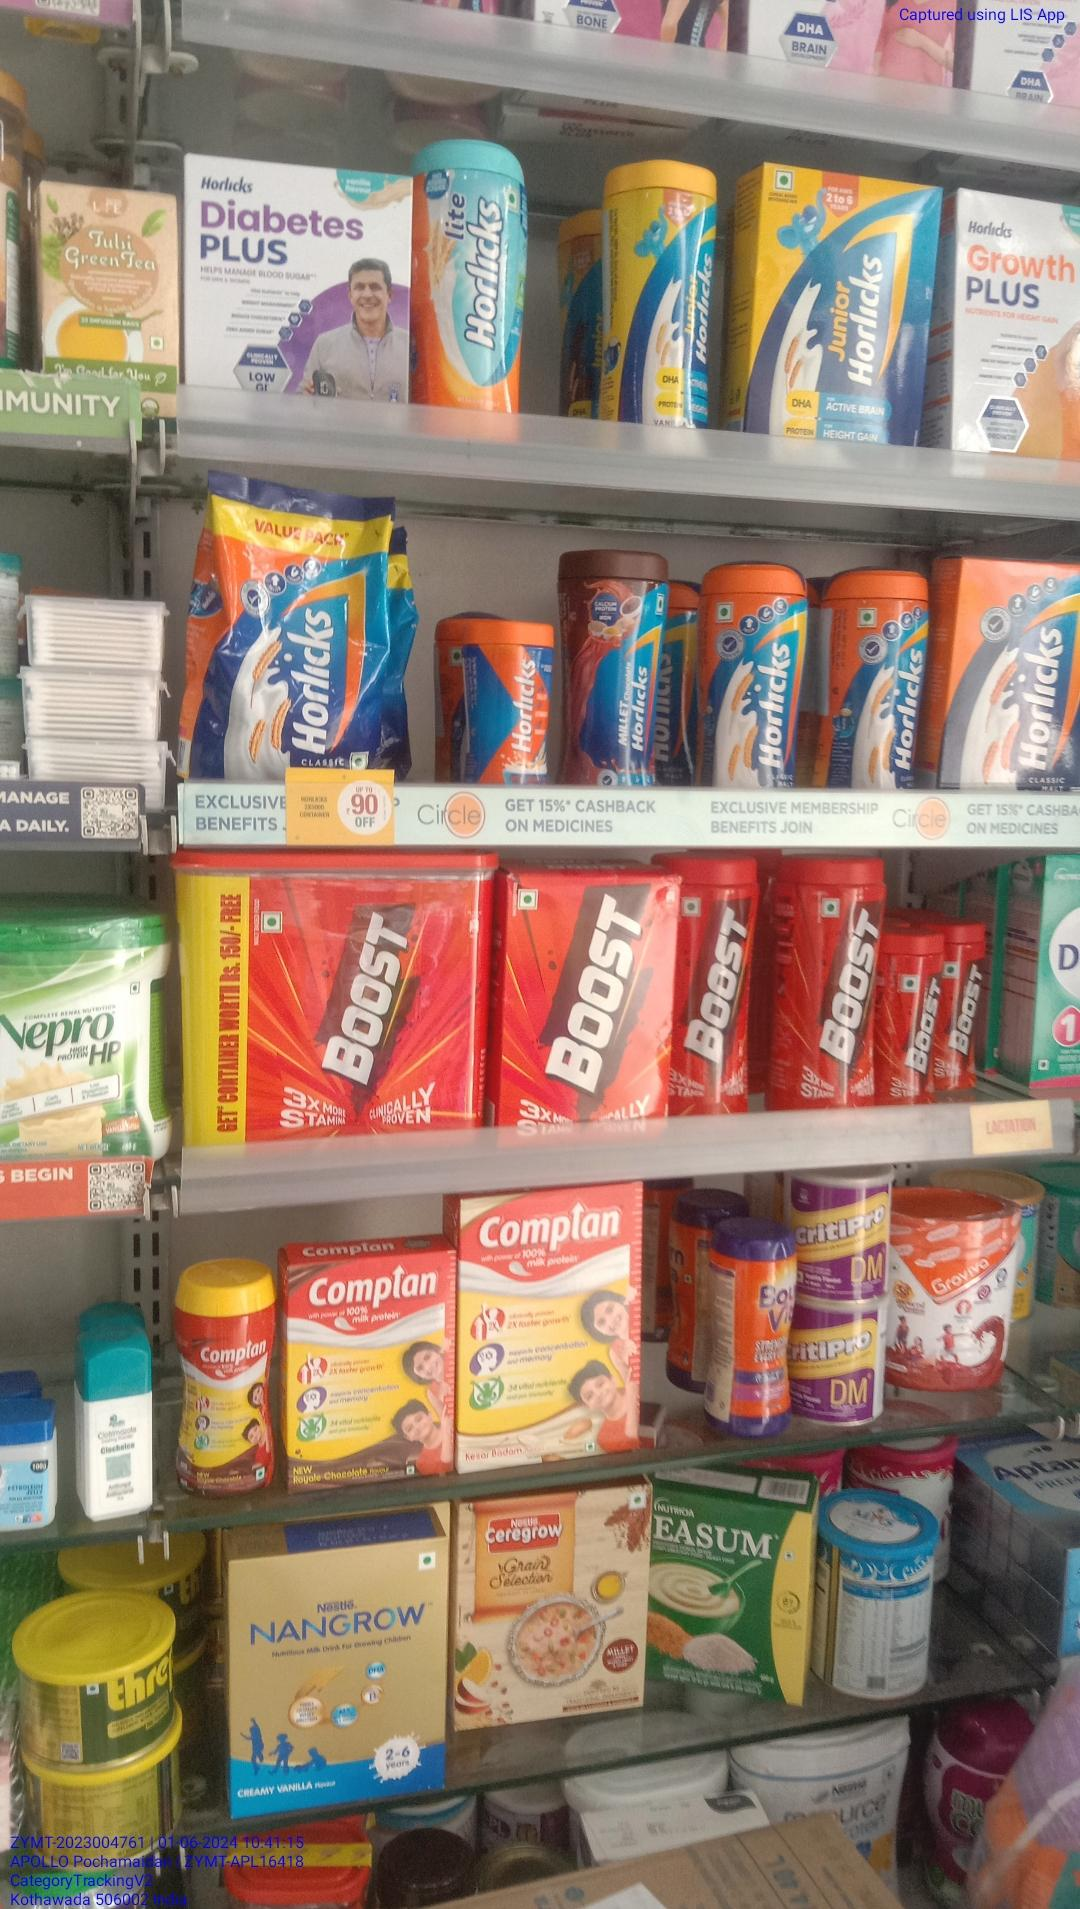BOURN_VITA_200_G_JAR: (734, 1229, 796, 1438)
COMPLAN_CHOCOLATE_200_GMS_JAR: (176, 1278, 270, 1493)
COMPLAN_CHOCOLATE_200_GMS_PACK: (287, 1264, 443, 1489)
COMPLAN_KESAR_BADAM_500_GMS_PACK: (461, 1194, 638, 1467)
HORLICKS_JUNIOR_VANILLA_500_GM_JAR: (607, 159, 717, 444)
HORLICKS_LITE_REGULAR_MALT_500_GM_JAR: (414, 135, 526, 444)
HORLICK_CLASSIC_MALT_200_G_JAR: (468, 619, 550, 787)
HORLICK_CLASSIC_MALT_500_G_JAR: (703, 560, 801, 792), (826, 565, 924, 792)
HORLICK_CLASSIC_MALT_500_G_PACK: (959, 555, 1080, 789)
HORLICK_CLASSIC_MALT_750_G_POUCH: (201, 477, 391, 776)
